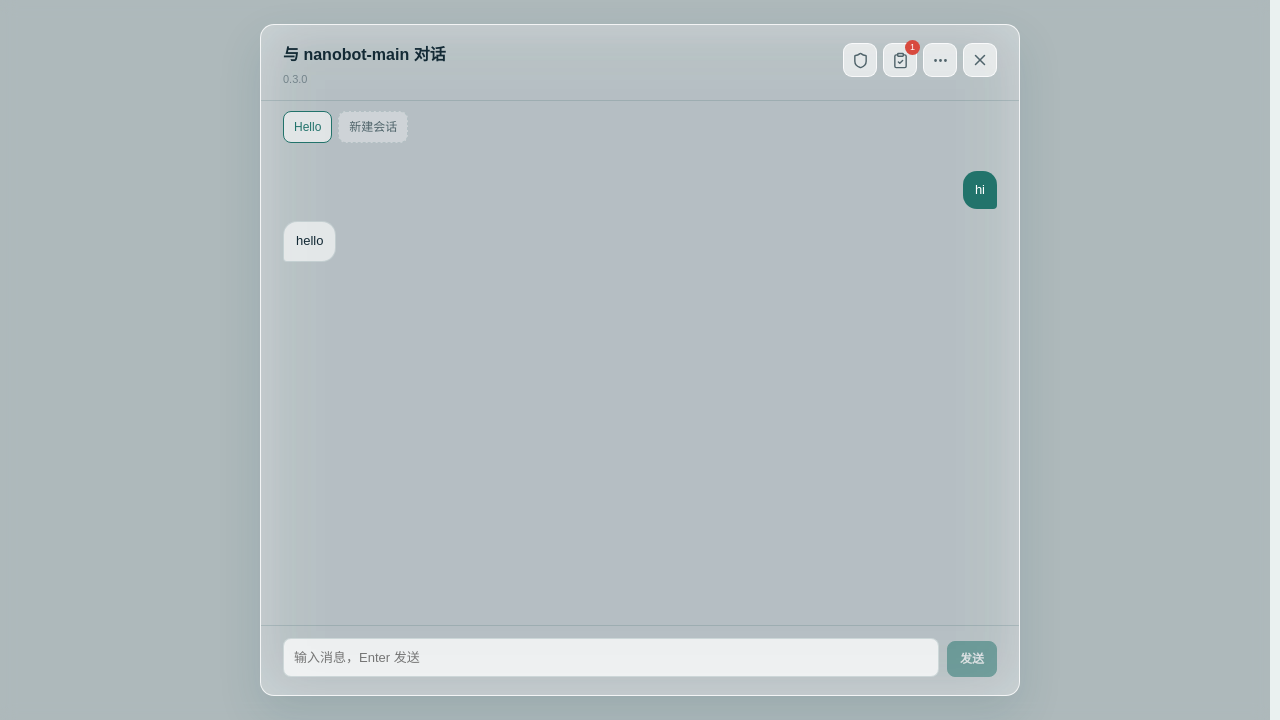
it: ChatDrawer › reloads authoritative approvals after a terminal resolve error and shows history
This screenshot has width=1280, height=720.
Click the button named "待审批操作" at (900, 60), box [883,43,917,77]
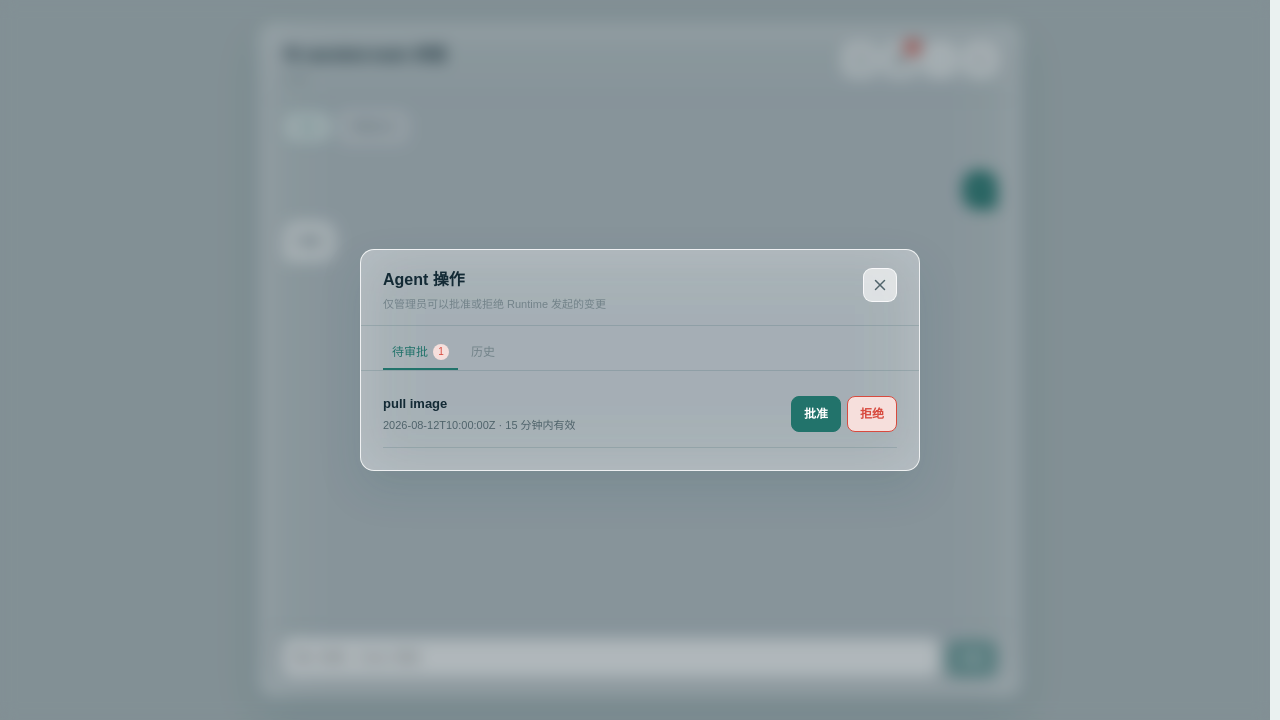
Click the button "批准" at (816, 414), box [791,396,841,432]
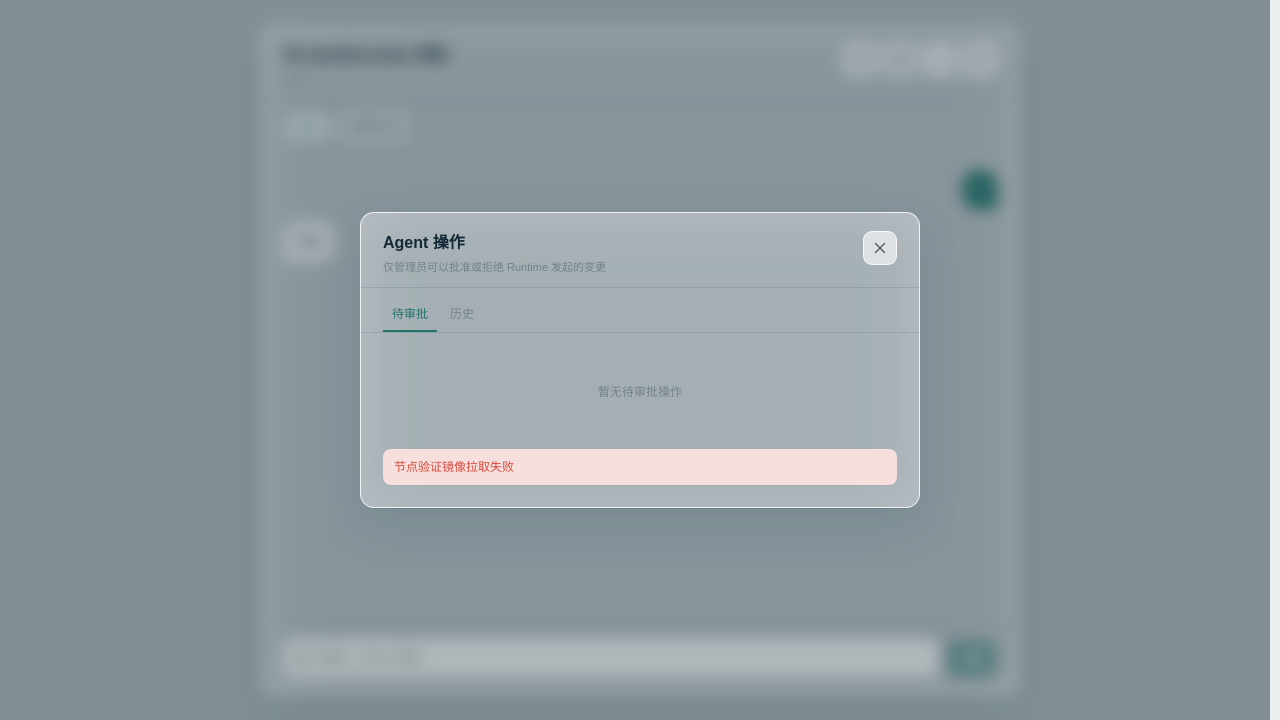
Expected: the text "暂无待审批操作" is shown, [598,385,682,399]
Expected: the text "节点验证镜像拉取失败" is shown, [383,449,897,485]
Click the button "历史" at (462, 315), box [441,298,483,332]
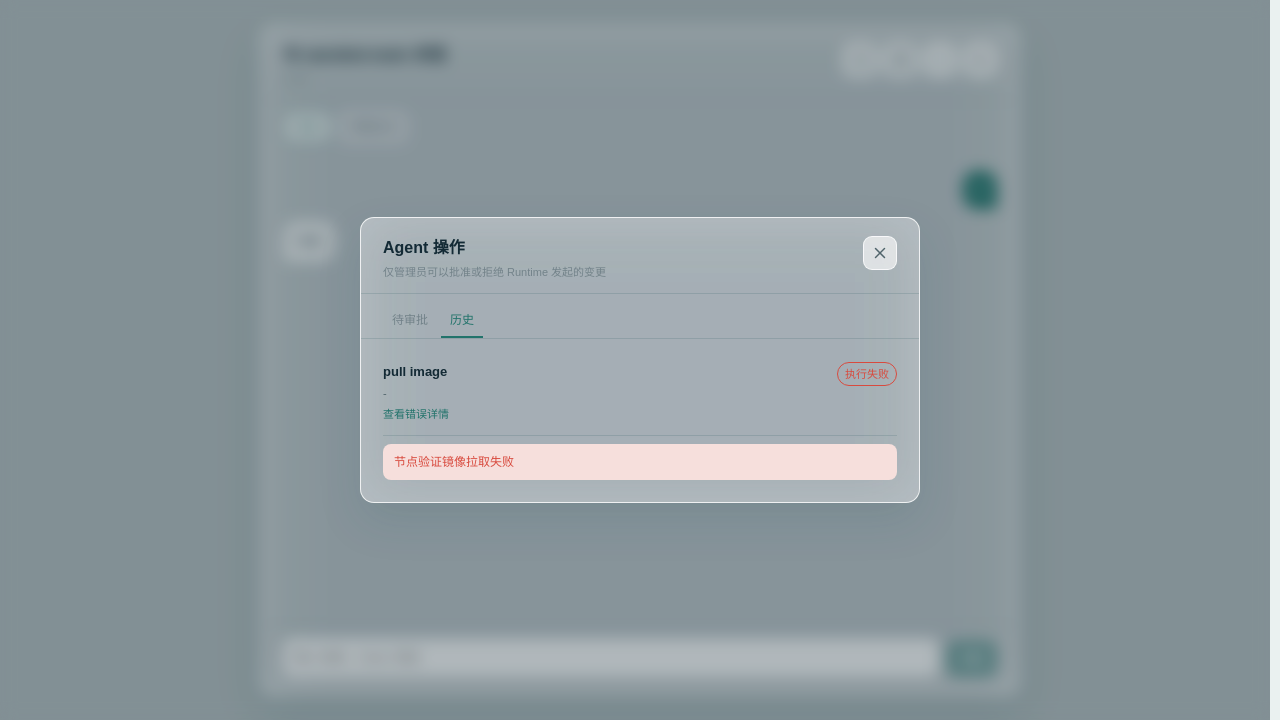
Expected: the text "执行失败" is shown, [837,362,897,386]
